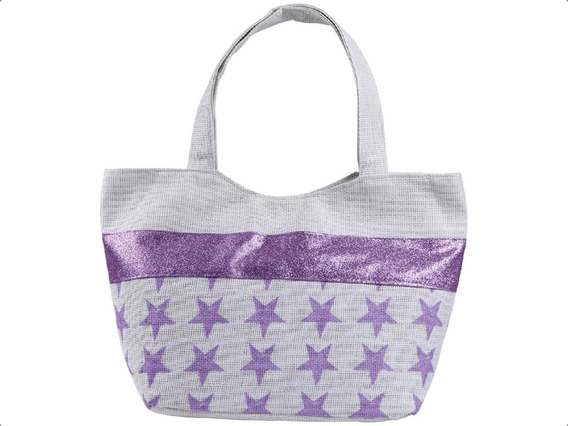cartera: (98, 3, 469, 424)
